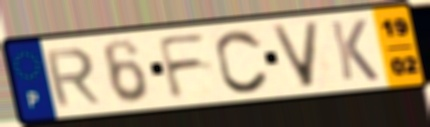6: (101, 38, 150, 106)
C: (213, 27, 272, 96)
F: (154, 30, 211, 102)
K: (327, 18, 382, 83)
R: (41, 46, 104, 110)
V: (267, 19, 323, 90)
